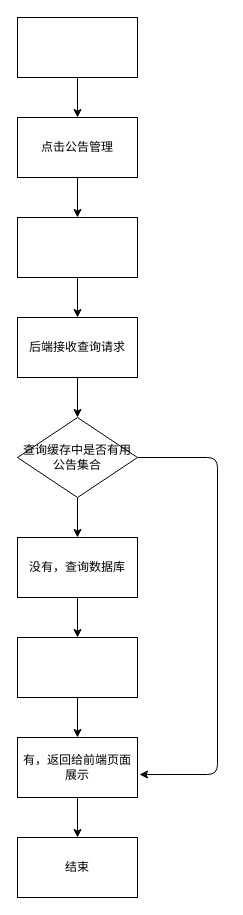
This 243x915 diagram has some shape labels left out. Here are the shapes that lost their labels. From the top down, the centre of each, then its label:
[77,47]: 开始
[77,247]: 点击所有公告按钮，发送查询请求
[77,667]: 填充缓存中的公告集合
